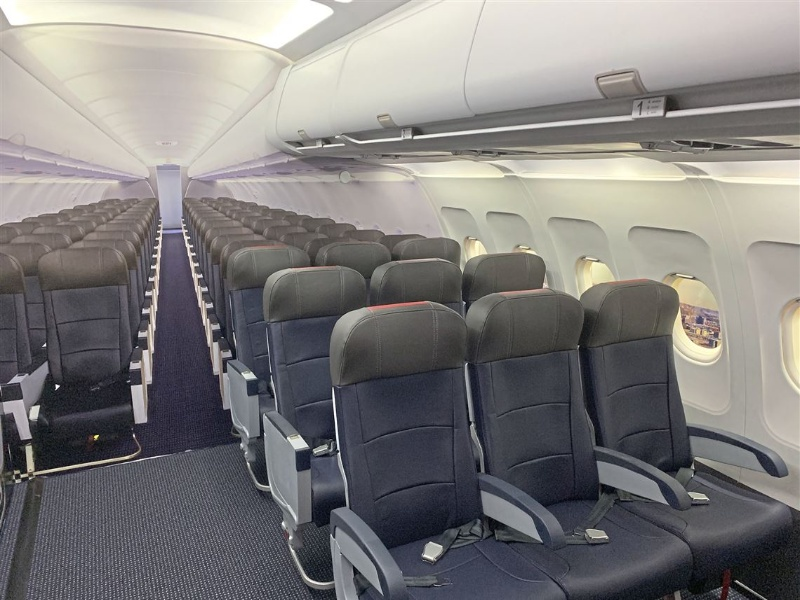close_bin: (467, 1, 800, 144), (334, 6, 487, 180), (256, 26, 353, 168), (3, 48, 69, 194), (60, 79, 111, 198), (229, 80, 275, 200), (105, 93, 135, 195), (200, 138, 232, 188), (128, 142, 156, 185), (185, 148, 210, 188)
